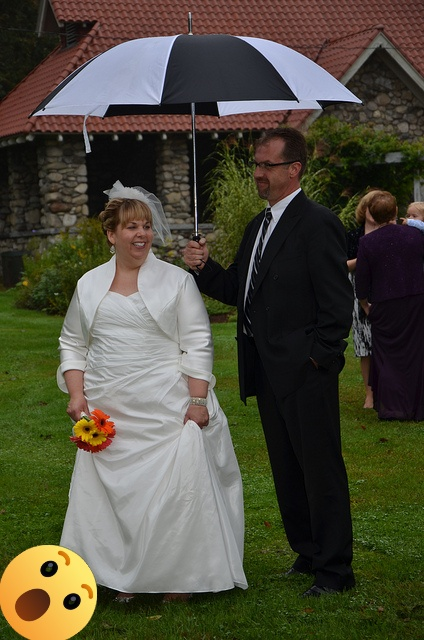wow: (0, 545, 97, 640)
